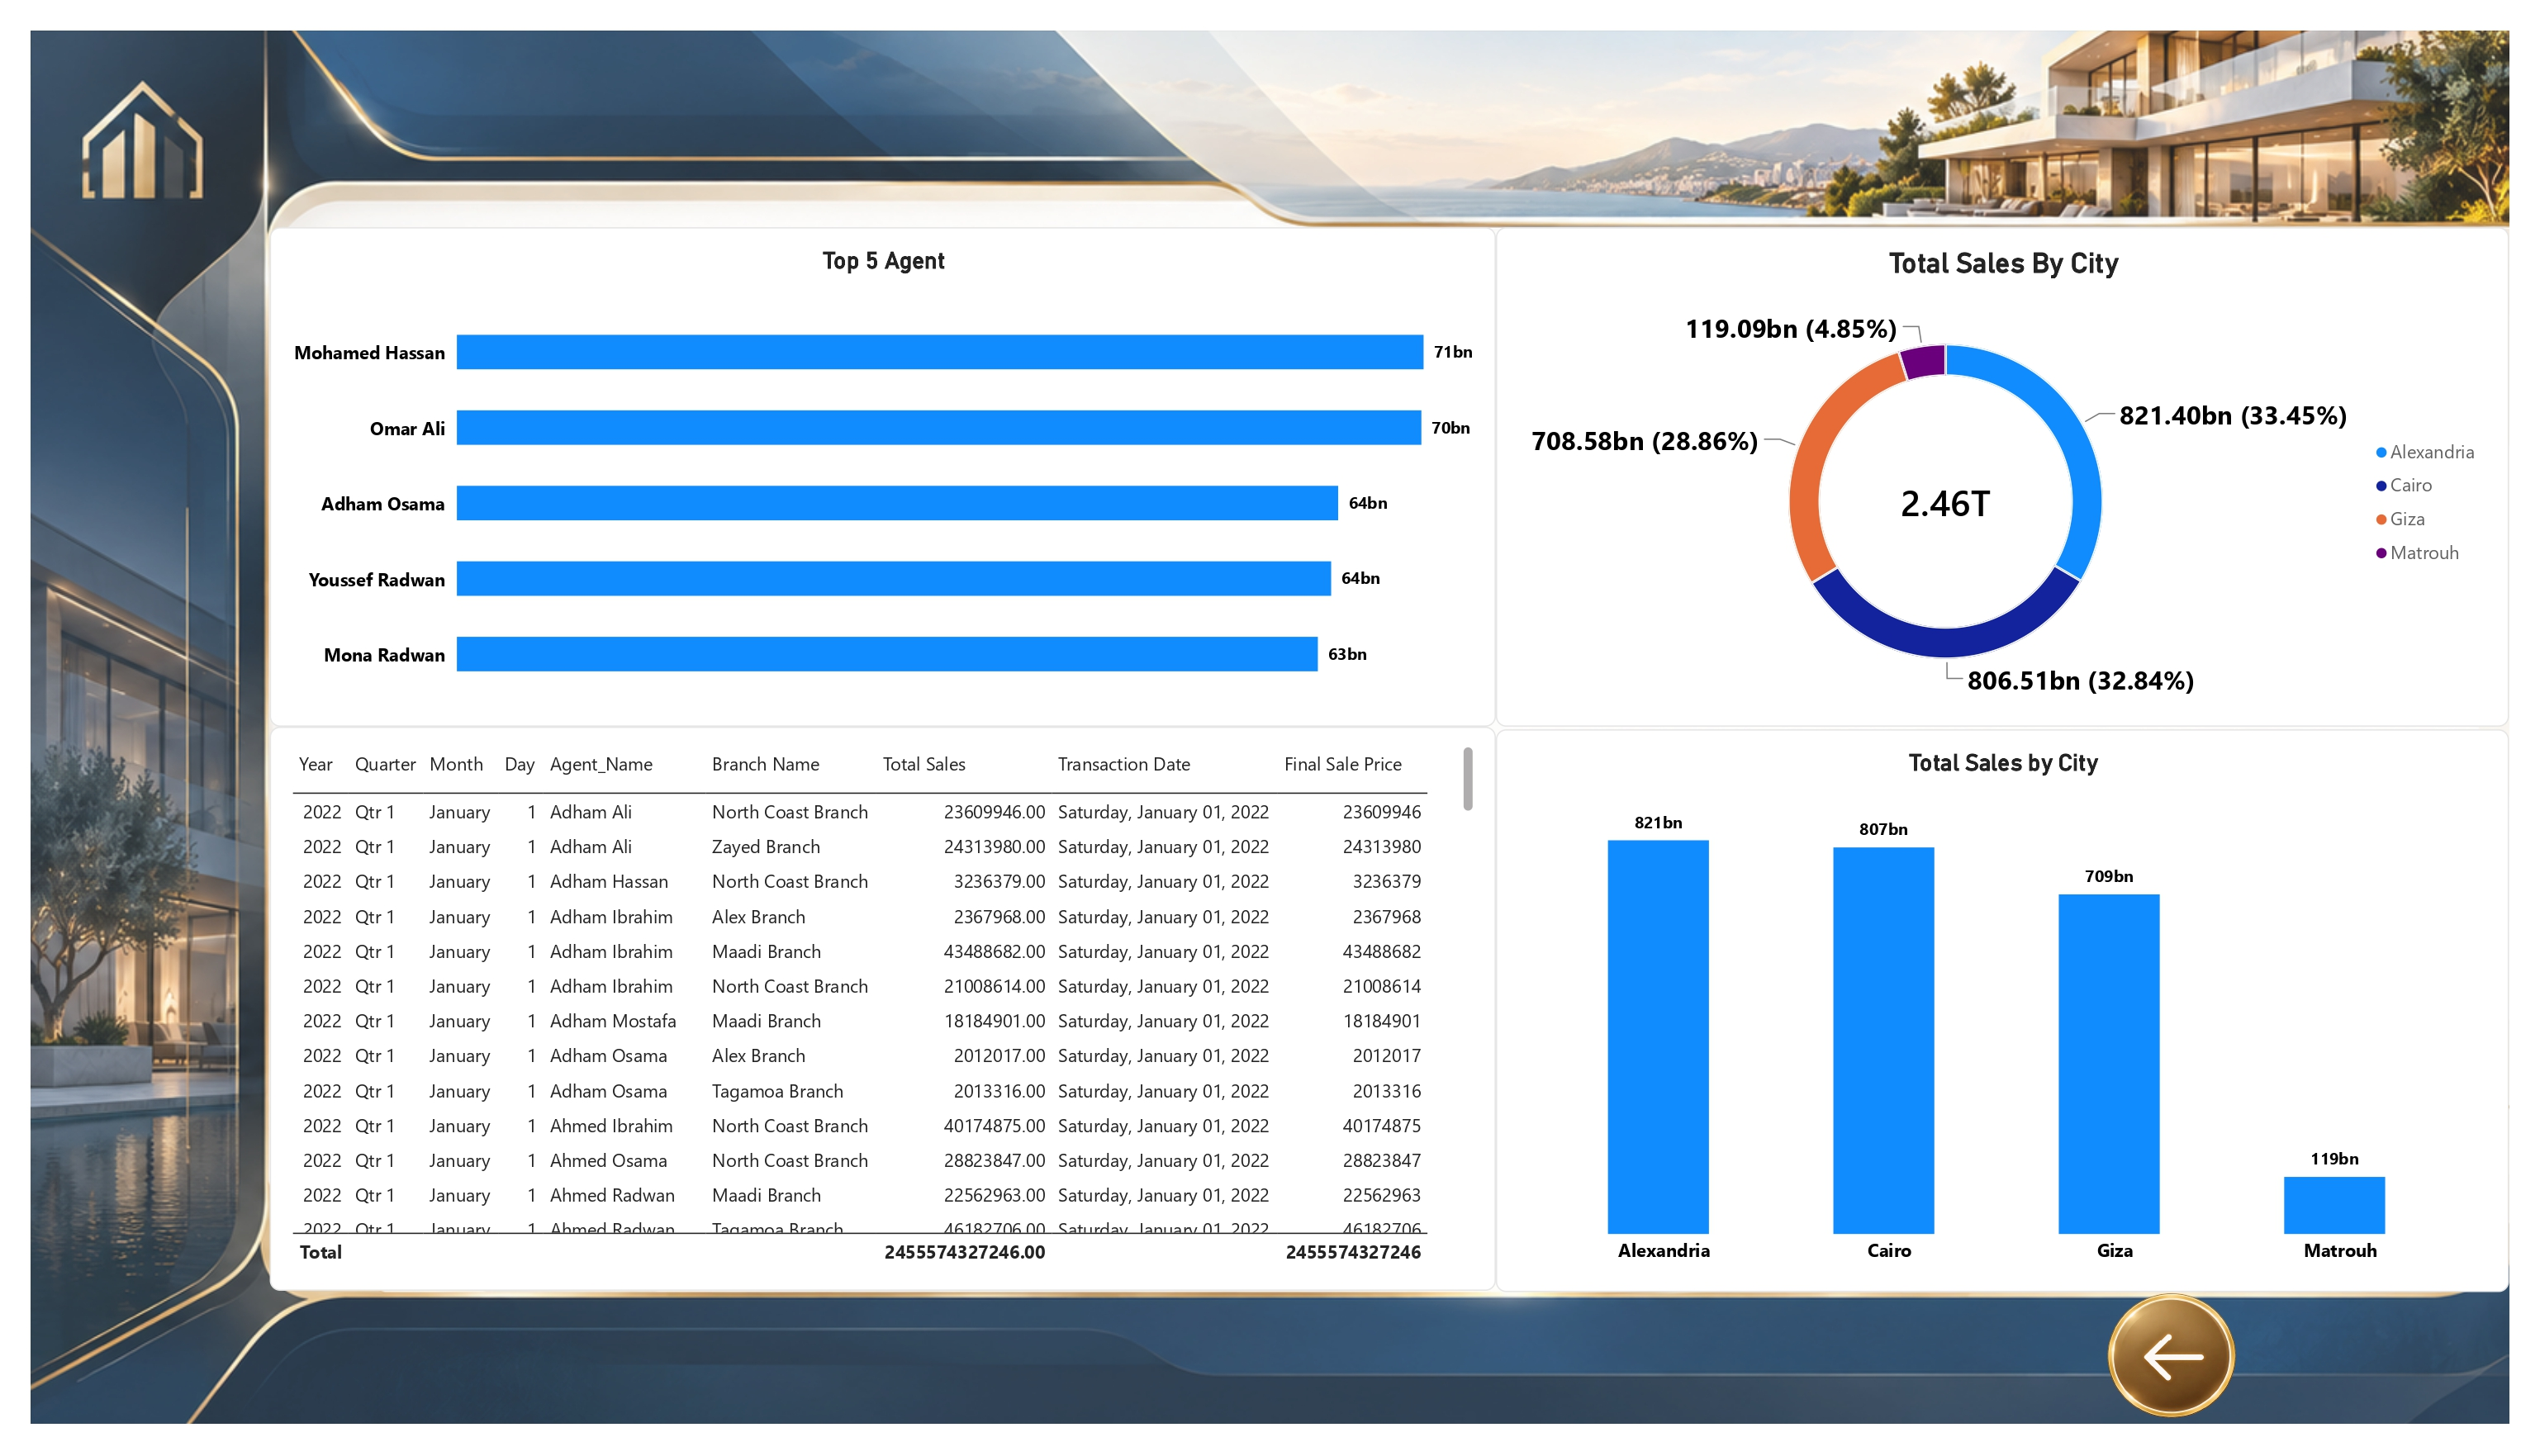

This screenshot's page, from the dashboard's own definition file:
{"tool":"powerbi","page":{"name":"Performance","canvas":[1920,1080],"ordinal":2},"visuals":[{"type":"clusteredBarChart","title":"Top 5 Agent","fields":{"Category":["Dim_Agents.Agent_Name"],"Y":["DAX.Total Sales"]},"box":[185.2,152.1,950.2,387],"z":0},{"type":"tableEx","fields":{"Values":["Date.Date.Variation.Date Hierarchy.Year","Date.Date.Variation.Date Hierarchy.Quarter","Date.Date.Variation.Date Hierarchy.Month","Date.Date.Variation.Date Hierarchy.Day","Dim_Agents.Agent_Name","Dim_Branches.Branch_Name","DAX.Total Sales","Fact_Transactions.Transaction_Date","Sum(Fact_Transactions.Final_Sale_Price)"]},"box":[185.2,539.1,950.2,436.7],"z":1},{"type":"donutChart","title":"Total Sales By City","fields":{"Category":["Dim_Locations.City"],"Y":["DAX.Total Sales"]},"box":[1135.4,152.1,784.6,387],"z":2},{"type":"columnChart","fields":{"Category":["Dim_Locations.City"],"Y":["DAX.Total Sales"]},"box":[1135.4,540.6,784.6,436.7],"z":3},{"type":"image","box":[1528.5,977.3,260.5,102.4],"z":5}]}

Visuals, with their boxes on the page's 1920x1080 design canvas (x1, y1, x2, y2). These are canvas units, not pixel positions in the 2540x1456 screenshot, which may show the page scaled, cropped or inside an application window:
"Top 5 Agent" clusteredBarChart: (x1=185, y1=152, x2=1135, y2=539)
tableEx - Date.Date.Variation.Date Hierarchy.Year x Date.Date.Variation.Date Hierarchy.Quarter: (x1=185, y1=539, x2=1135, y2=976)
"Total Sales By City" donutChart: (x1=1135, y1=152, x2=1920, y2=539)
columnChart - Dim_Locations.City x DAX.Total Sales: (x1=1135, y1=541, x2=1920, y2=977)
image: (x1=1528, y1=977, x2=1789, y2=1080)
